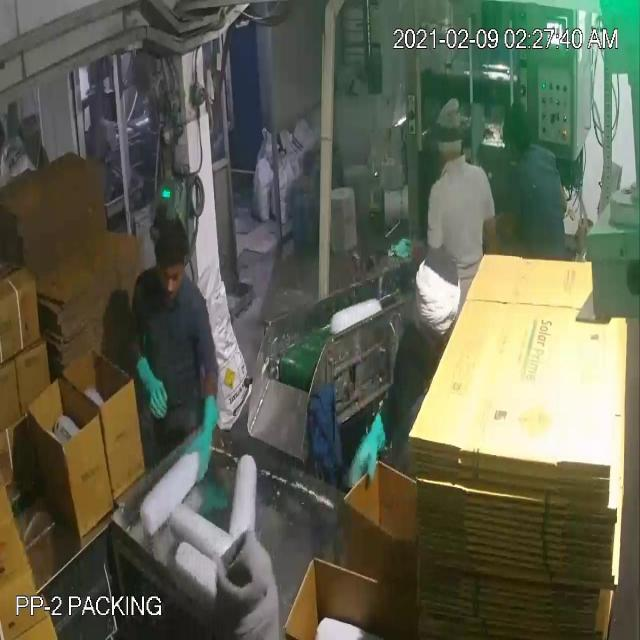Gloves: (38, 84, 367, 446)
